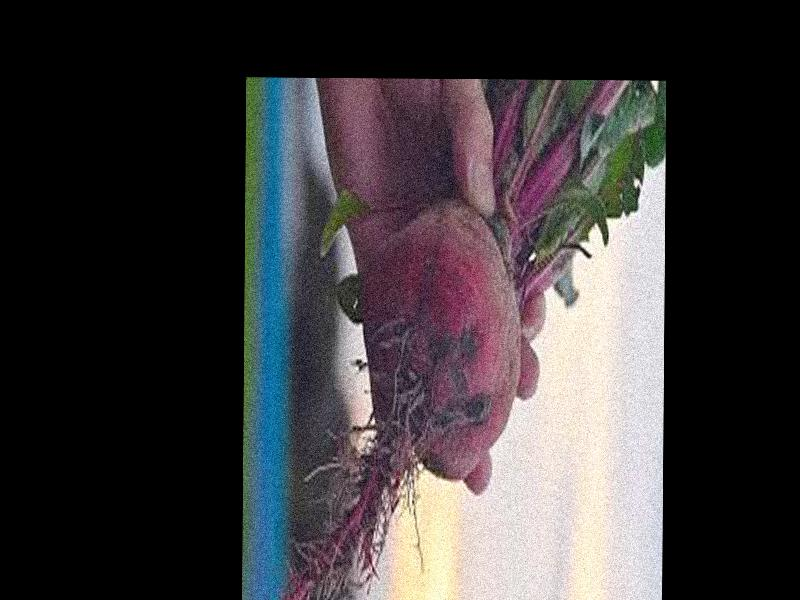Beet: (261, 80, 664, 600)
